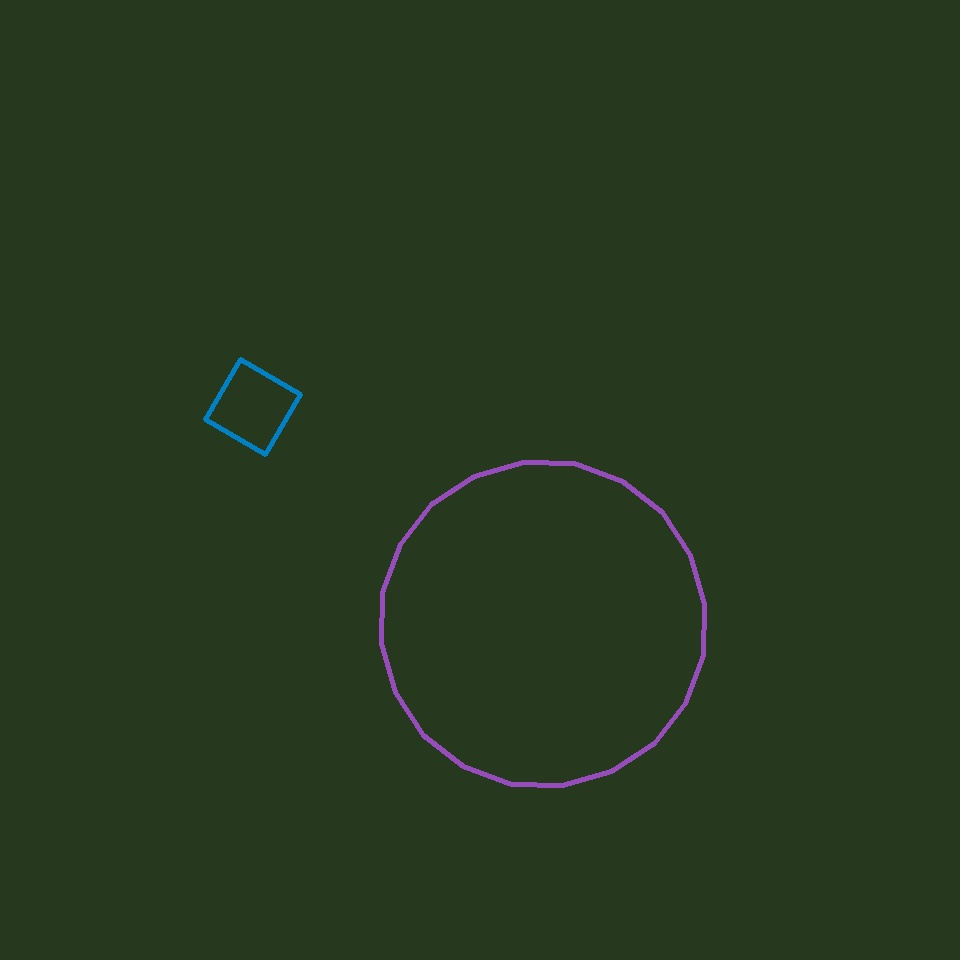square: (206, 360, 300, 454)
triangle: (382, 463, 704, 786)
